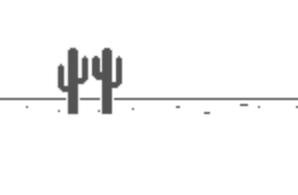dead-t-rex: (53, 44, 126, 118)
